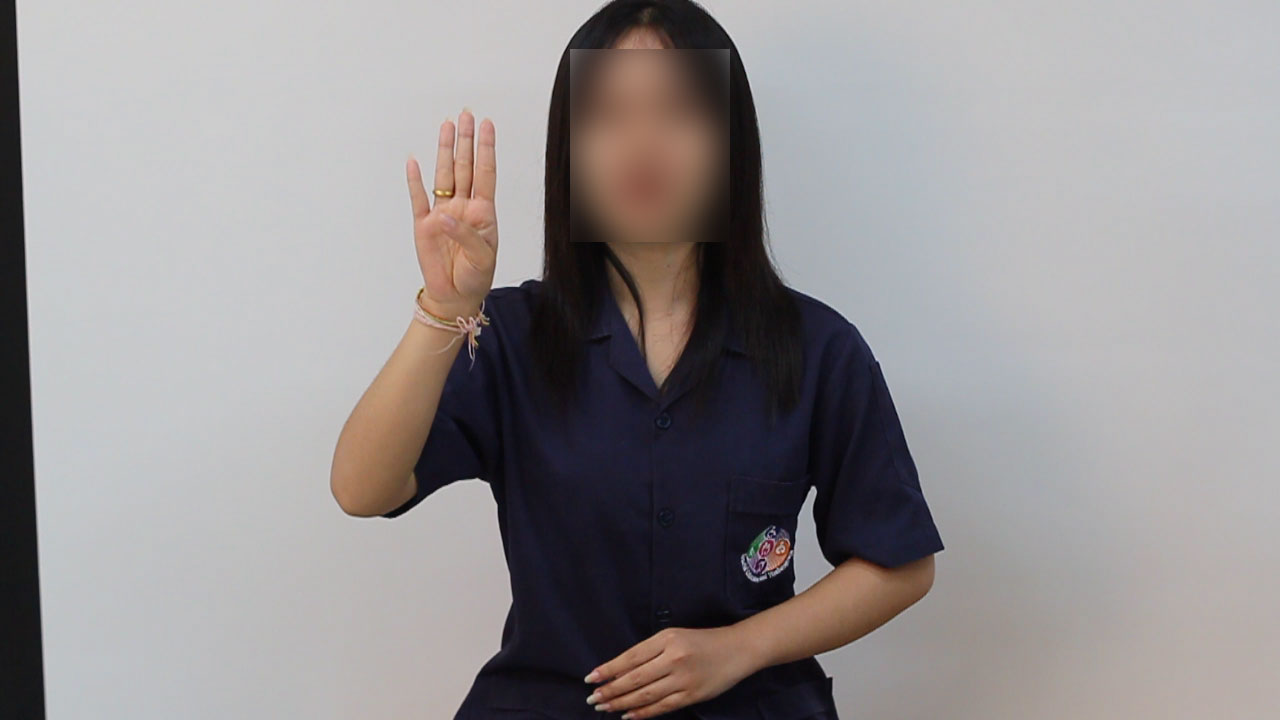bor: (383, 90, 525, 348)
